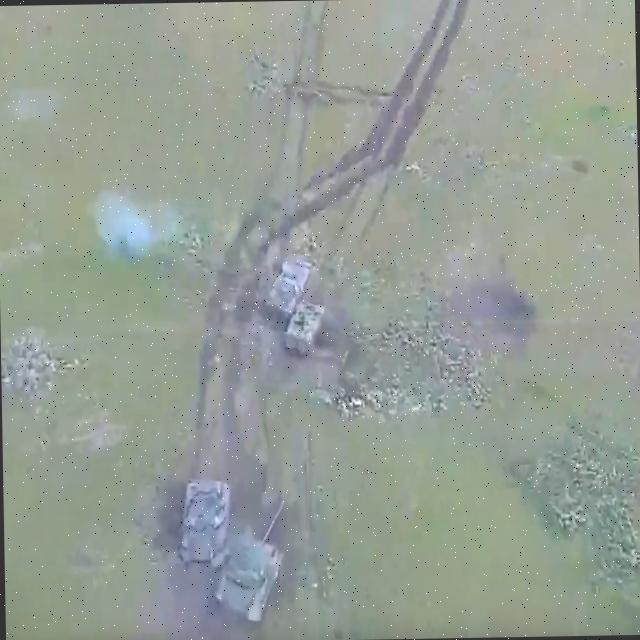AIFV: (262, 251, 317, 326), (281, 299, 329, 372)
MBT: (206, 500, 300, 628), (168, 474, 234, 572)
